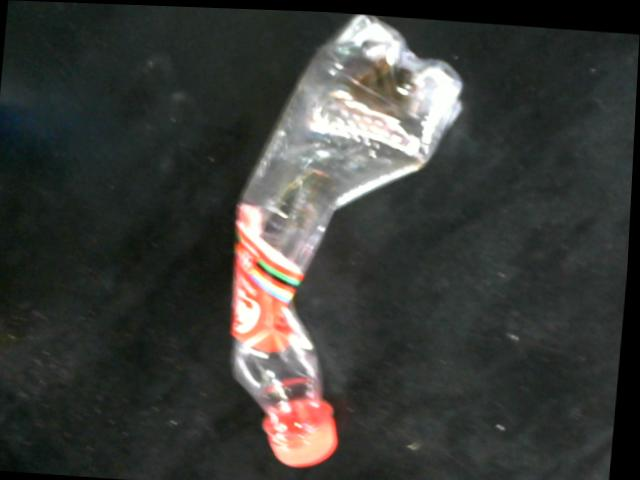bottle: (232, 11, 467, 466)
